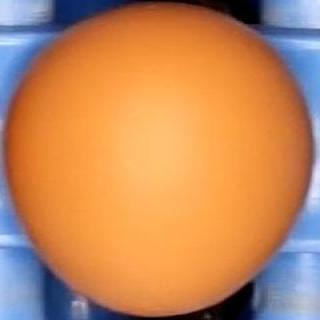Telur: (1, 1, 317, 319)
